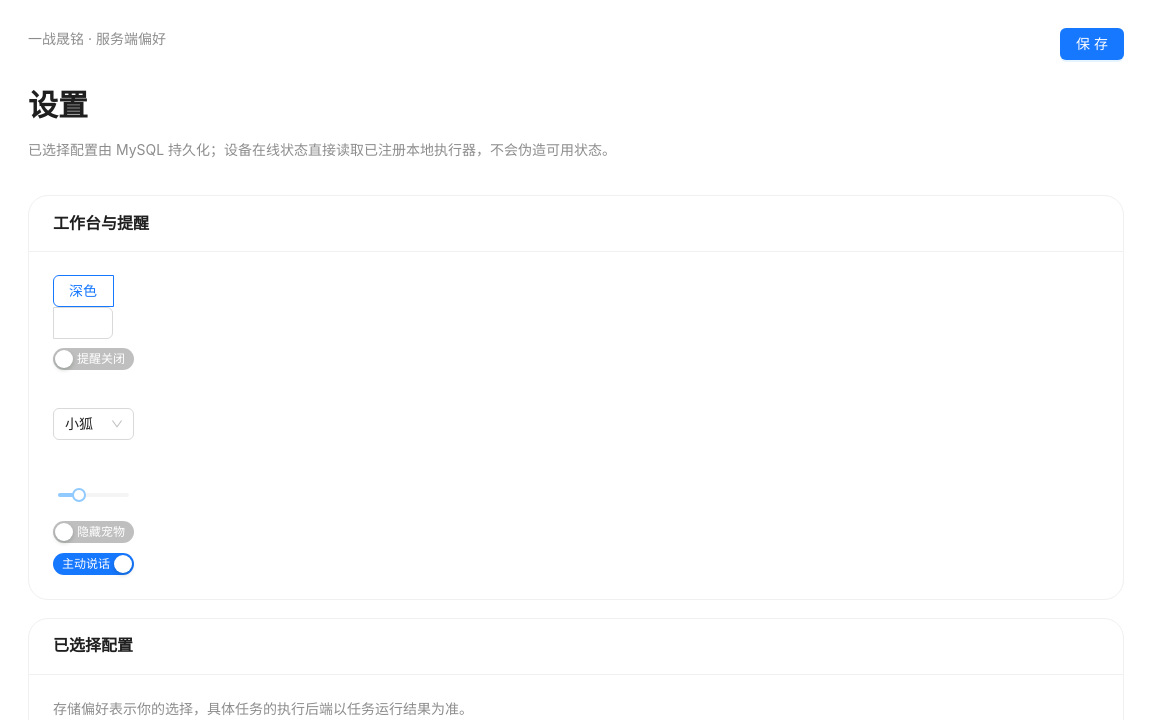
Test: SettingsPage › restores the confirmed theme after full Save failure and keeps non-theme drafts
What coordinates should you click on to do the following:
click the switch labelled "提醒开启 提醒关闭"
I would click on:
 (94, 359)
Its box is [53,348,134,370].
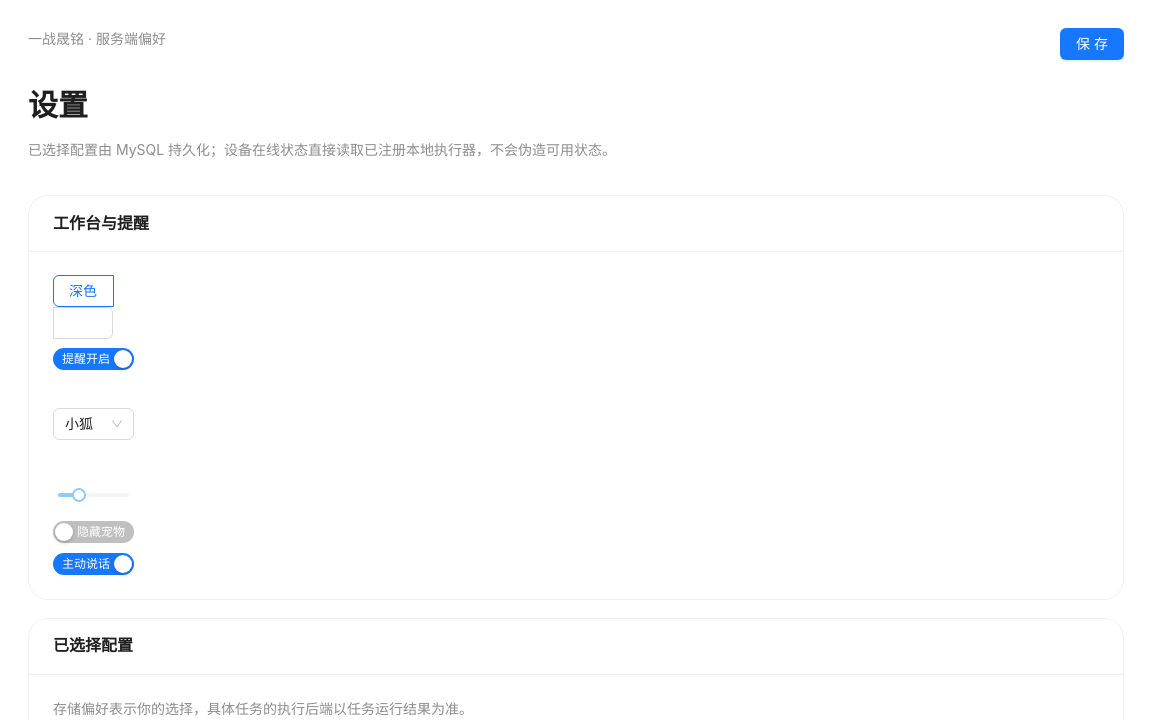
What coordinates should you click on to do the following:
click the button "保 存"
I would click on:
 (1092, 44)
Its box is [1060,28,1124,60].
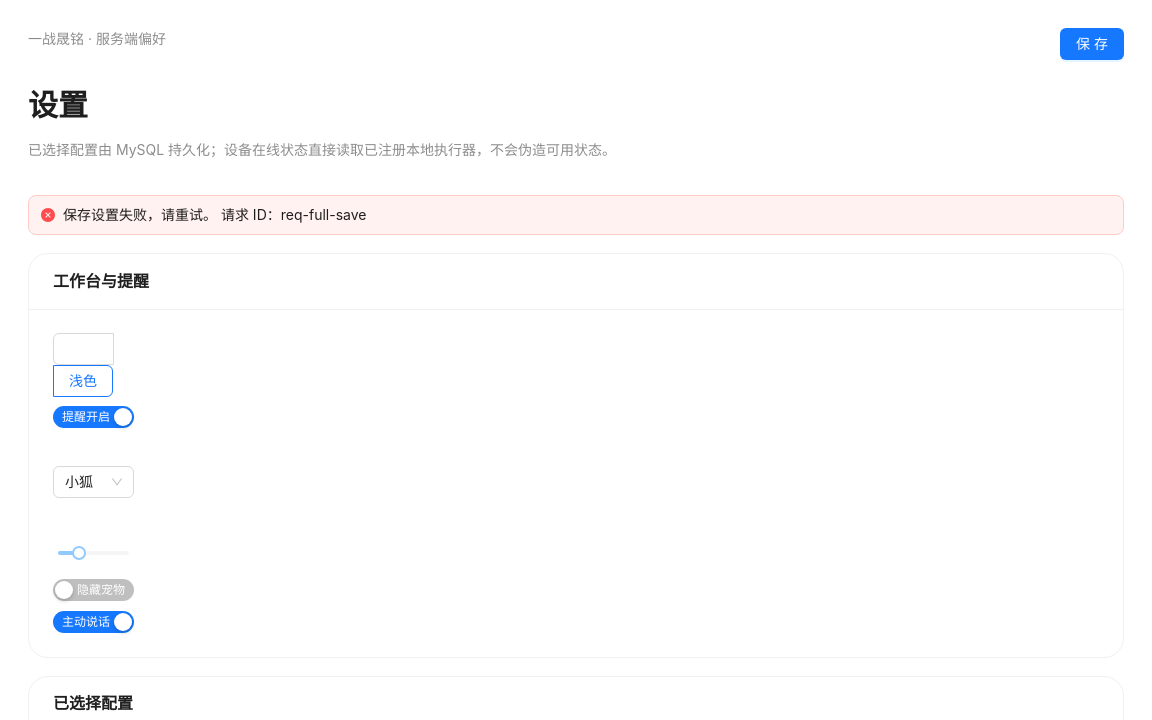
Expected: the text "保存设置失败，请重试。 请求 ID：req-full-save" is shown, [63,206,366,223]
Expected: the radio button labelled "浅色" is checked, [53,365,113,397]
